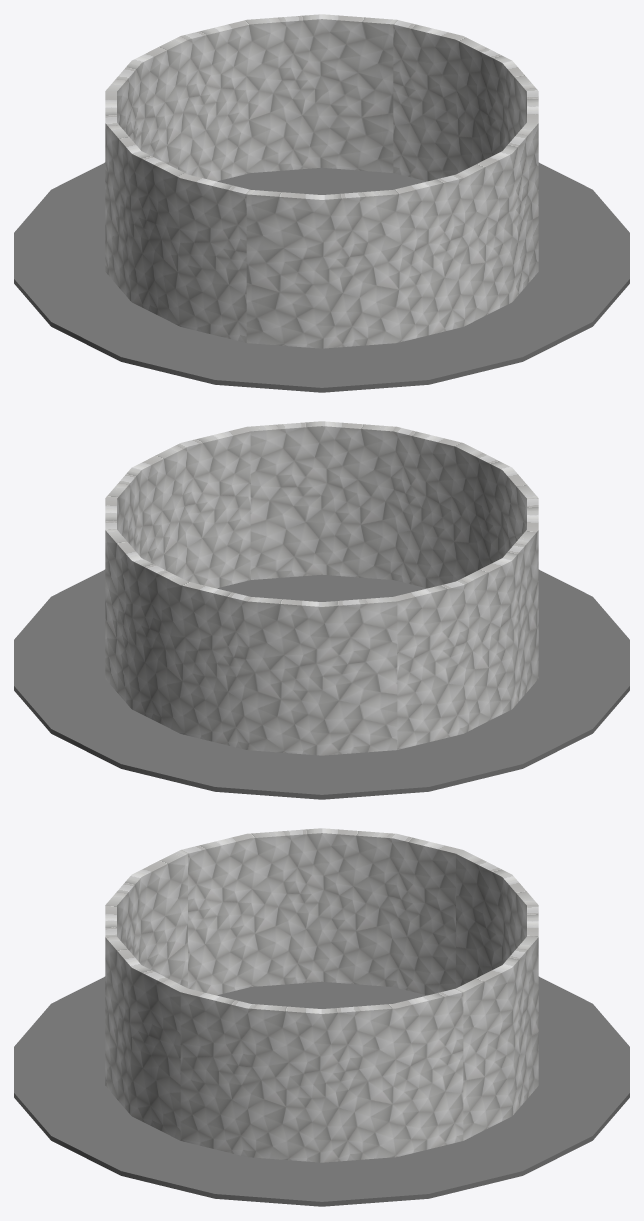
3 views of the same model, one above another, from view 1: azimuth 30°, elevation 25°; view 2: azimuth 150°, elevation 25°; view 3: azimuth 270°, elevation 25° (orthographic).
Parts seen in each view (by area): view 1: Cylinder001, Shape001; view 2: Cylinder001, Shape001; view 3: Cylinder001, Shape001.
Boxes of the visible parts, bbox=[...] form: Cylinder001: bbox=[105, 14, 538, 348]; Shape001: bbox=[14, 162, 629, 392]; Cylinder001: bbox=[105, 421, 538, 755]; Shape001: bbox=[14, 569, 629, 799]; Cylinder001: bbox=[105, 828, 538, 1162]; Shape001: bbox=[14, 976, 629, 1206].
Size of the model in its own units: 354 by 95.96 by 349.
2 materials, 1 textured.
